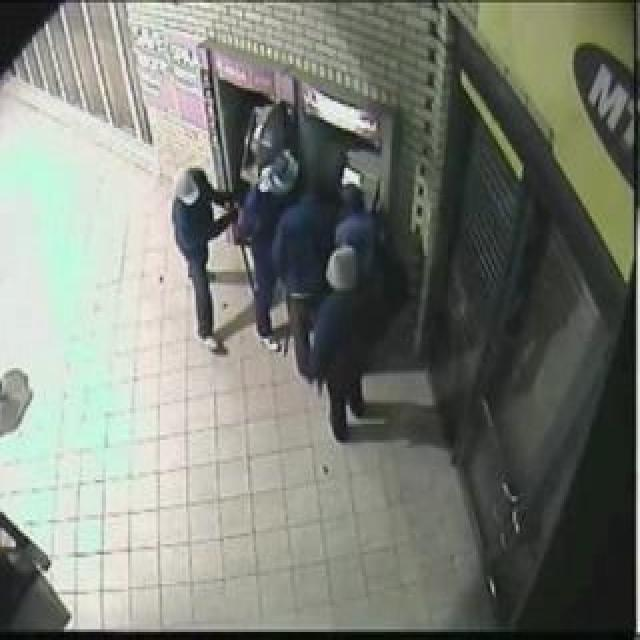thief: (157, 140, 387, 326)
